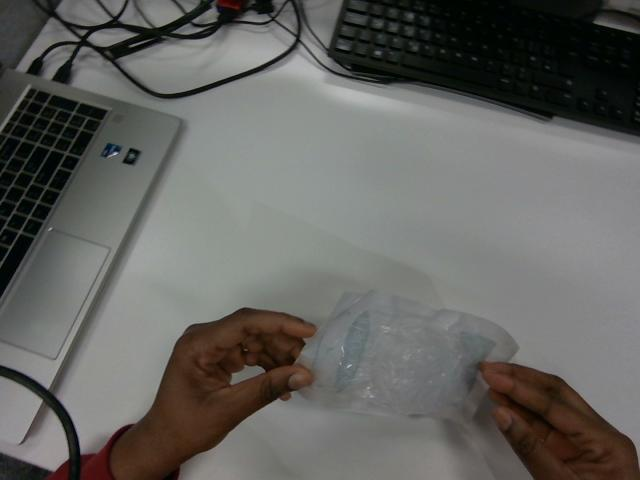gallipot: (297, 290, 517, 419)
